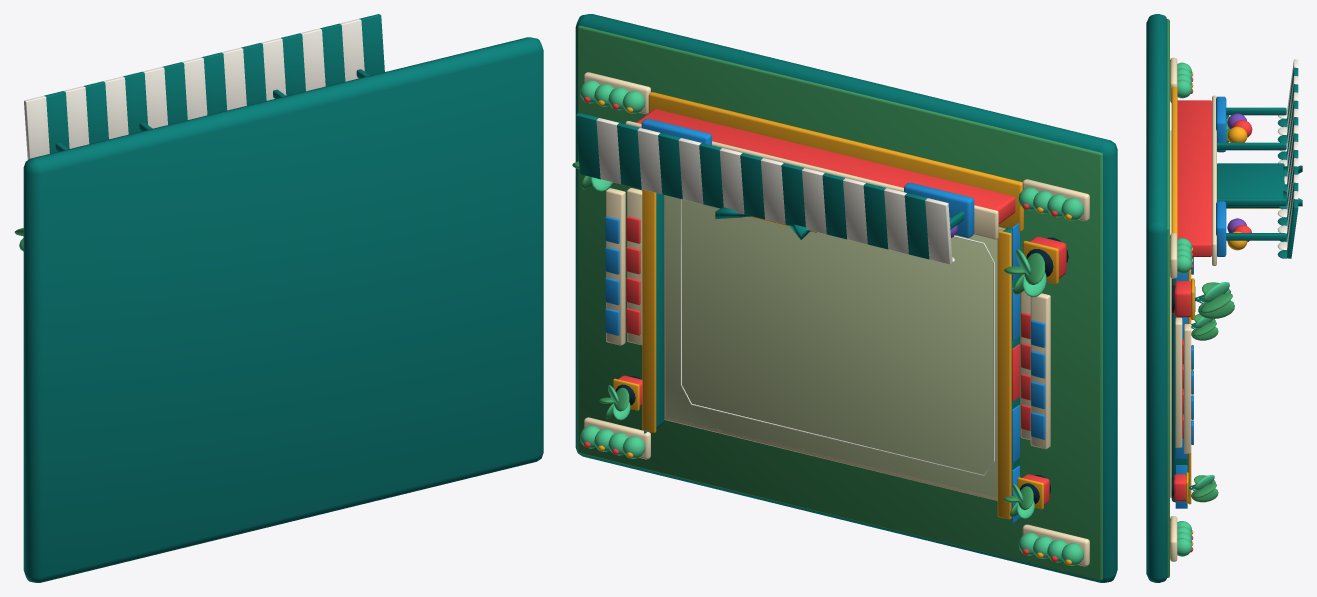
File: ArcadeGardenArena.fbx
3 renders of one model, left to right at view 1: azimuth 30°, elevation 25°; view 2: azimuth 150°, elevation 25°; view 3: azimuth 270°, elevation 25°, orthographic. The views are drawn at different scales.
Visible parts, largest first — view 1: ArcadeGardenArena; view 2: ArcadeGardenArena; view 3: ArcadeGardenArena.
Part boxes in pixels (box(x1,y1,x2,y2)): ArcadeGardenArena: box(14, 14, 543, 582); ArcadeGardenArena: box(572, 14, 1117, 582); ArcadeGardenArena: box(1146, 14, 1302, 582).
Size of the model in its own units: 12.5 by 9.8 by 3.84.
